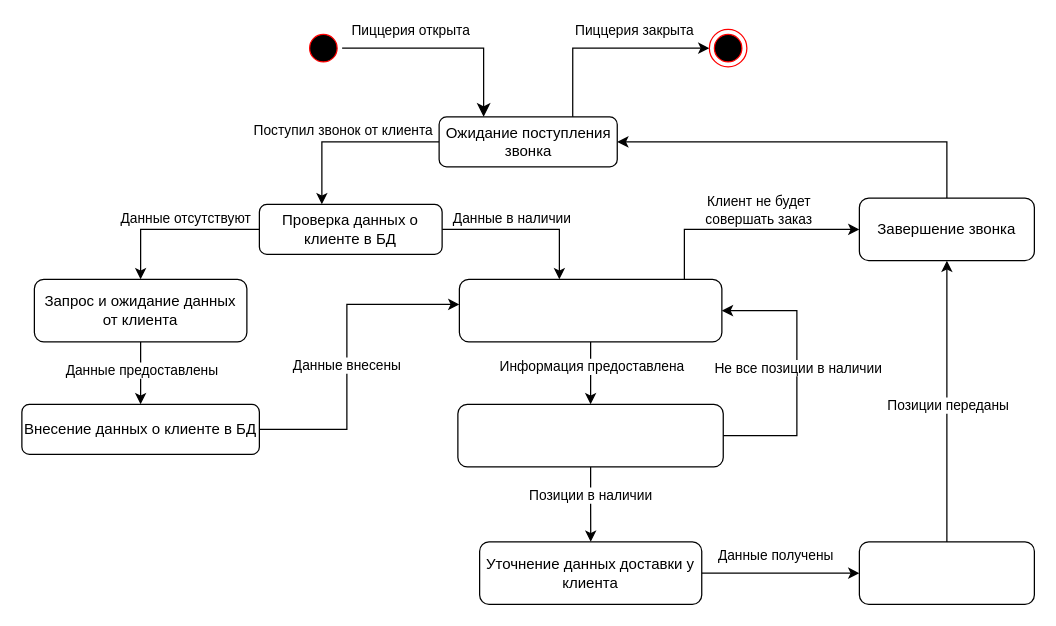
This 1056x626 diagram has some shape labels left out. The shapes that lost their labels are listed below. From the top down, each one's centre as x and y in pixels, then its label:
At pixel 590 310: "Запрос и ожидание от клиента желаемых позиций".
At pixel 590 435: "Проверка наличия запрошенных позиций".
At pixel 946 572: "Передача заказанных позиций на кухню".
